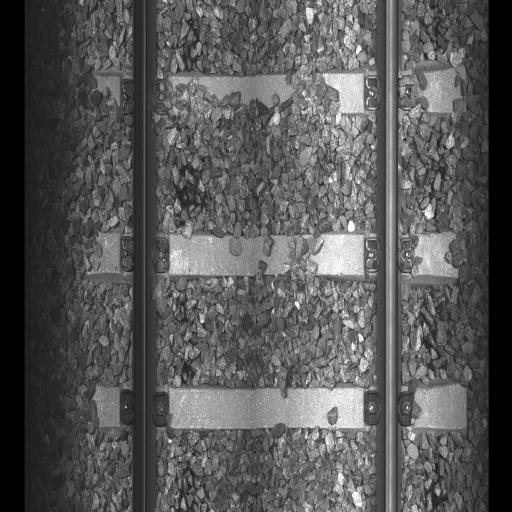clips: (364, 232, 418, 287), (118, 384, 170, 431), (118, 235, 172, 278), (365, 384, 414, 429), (122, 74, 168, 121), (364, 76, 416, 117)
sleepers: (75, 224, 459, 298), (77, 69, 465, 140), (73, 374, 470, 440)
